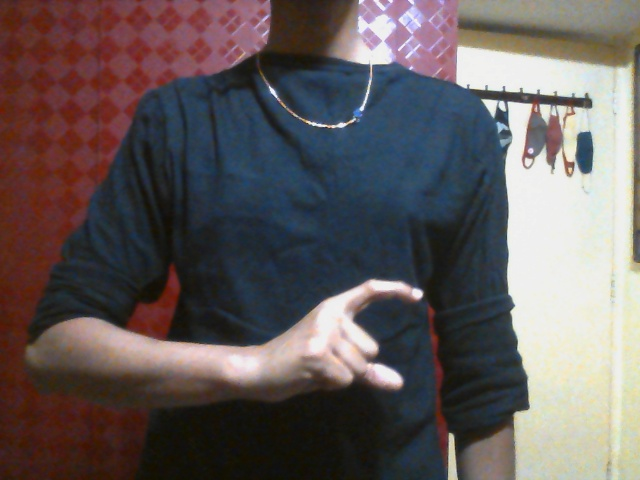C: (273, 277, 425, 405)
